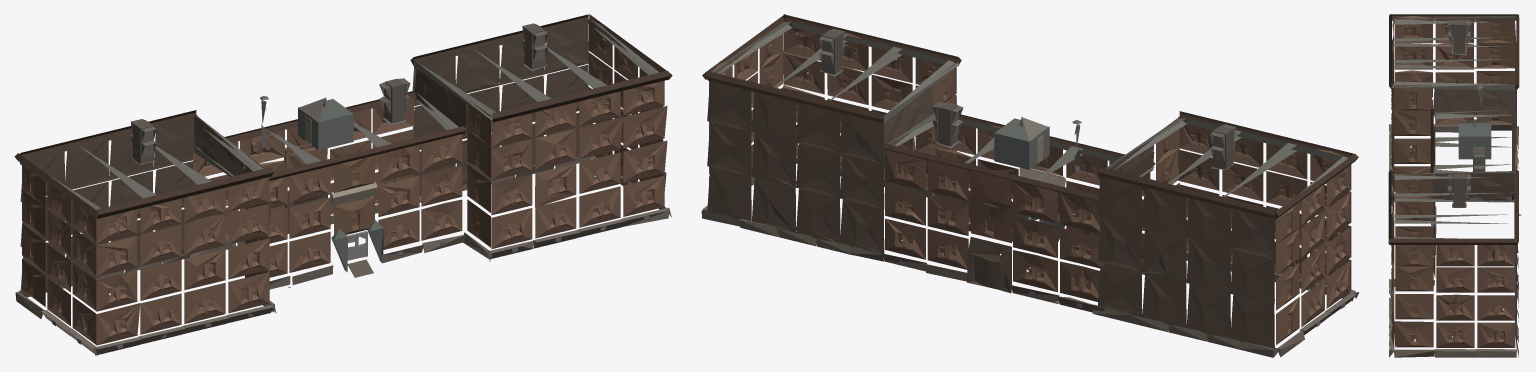
Rendered from prison-block.lod1.glb.
The picture shows the model from 3 angles, left to right: view 1: azimuth 30°, elevation 25°; view 2: azimuth 150°, elevation 25°; view 3: azimuth 270°, elevation 25°; orthographic projection. The views are drawn at different scales.
Visible parts, largest first — view 1: Jail_Build1_MAT_0; view 2: Jail_Build1_MAT_0; view 3: Jail_Build1_MAT_0.
Boxes of the visible parts, x1,y1,x2,y2 form: Jail_Build1_MAT_0: (14, 14, 672, 356); Jail_Build1_MAT_0: (701, 14, 1359, 357); Jail_Build1_MAT_0: (1388, 14, 1521, 357).
Size of the model in its own units: 51.78 by 15.58 by 12.82.
